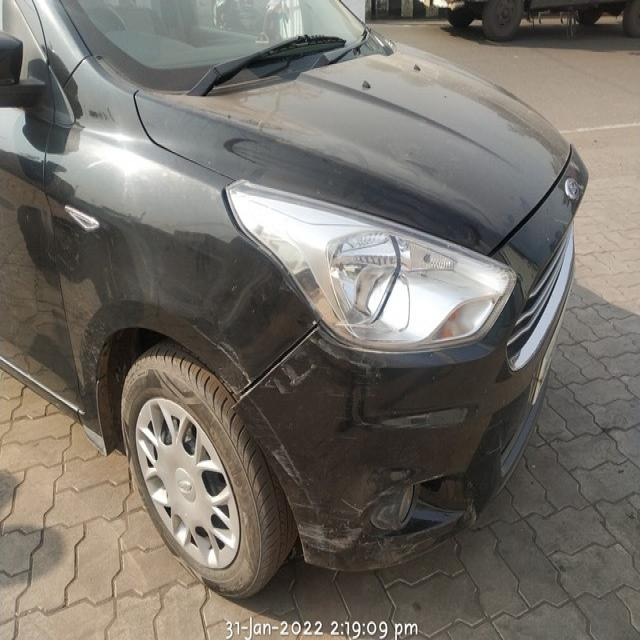damage: (261, 349, 416, 573), (176, 317, 258, 385)
